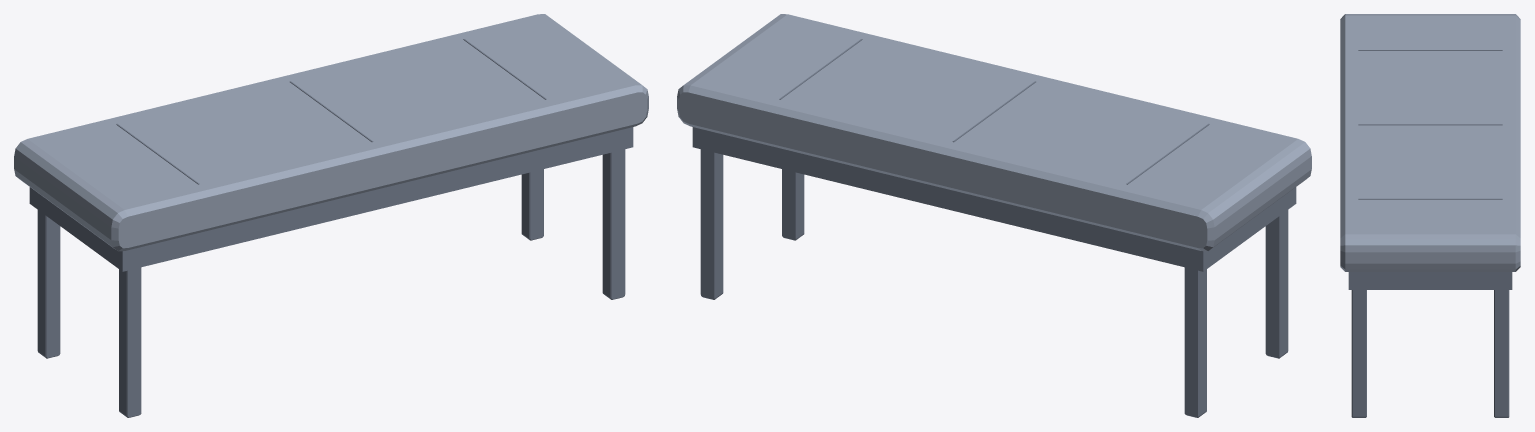
File: bed-end-bench-lite.glb
3 views of the same model, side by side, from view 1: azimuth 30°, elevation 25°; view 2: azimuth 150°, elevation 25°; view 3: azimuth 270°, elevation 25° (orthographic). The views are drawn at different scales.
Parts seen in each view (by area): view 1: soft, body; view 2: soft, body; view 3: soft, body.
Part boxes in pixels (x1=…): soft: x1=14, y1=14, x2=648, y2=251; body: x1=29, y1=39, x2=633, y2=417; soft: x1=677, y1=14, x2=1311, y2=251; body: x1=692, y1=39, x2=1296, y2=417; soft: x1=1340, y1=14, x2=1520, y2=271; body: x1=1348, y1=50, x2=1512, y2=417.
Size of the model in its own units: 1.3 by 0.494 by 0.43.
